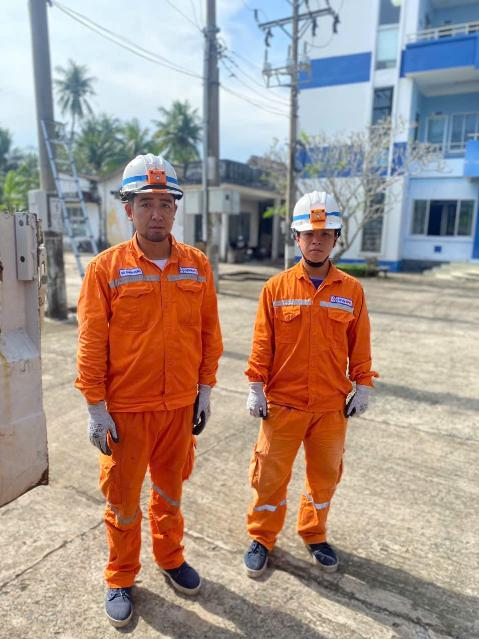gloves: (77, 391, 127, 454), (177, 381, 224, 442), (343, 378, 380, 423), (241, 377, 272, 425)
helmet: (115, 144, 191, 203), (290, 187, 348, 241)
shoes: (301, 522, 353, 584), (152, 545, 208, 596), (237, 520, 275, 581), (98, 578, 143, 627)
